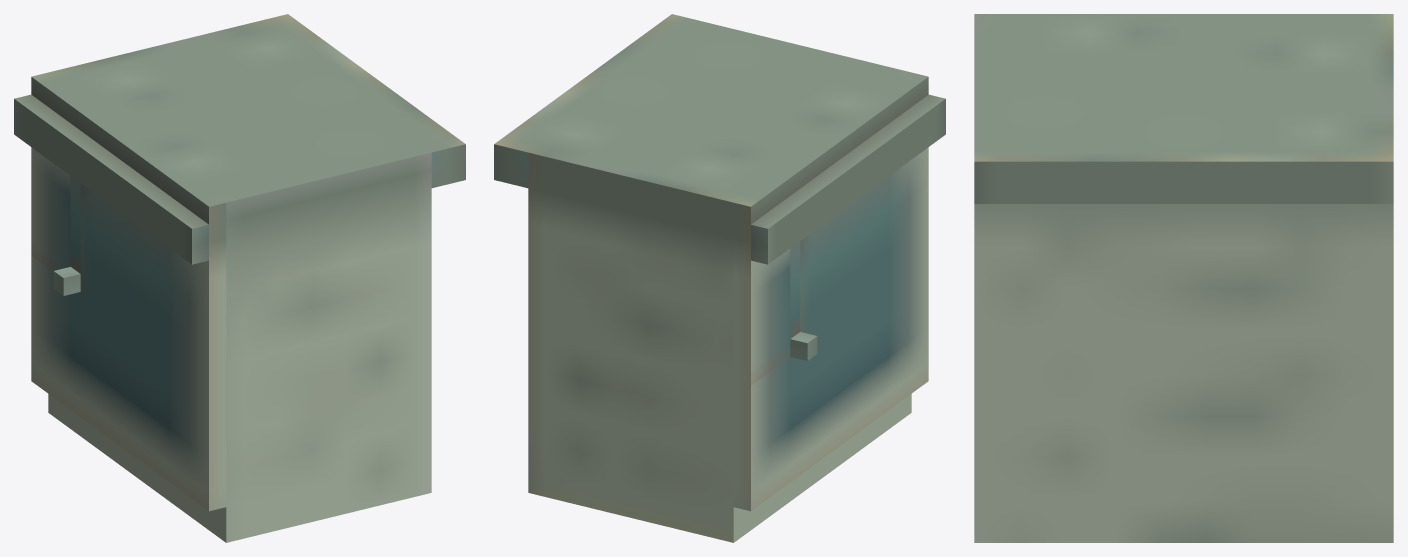
The model's file is CountertopGreen_01.fbx.
The picture shows the model from 3 angles, left to right: view 1: azimuth 30°, elevation 25°; view 2: azimuth 150°, elevation 25°; view 3: azimuth 270°, elevation 25°; orthographic projection. The views are drawn at different scales.
Parts seen in each view (by area): view 1: CountertopGreen_01; view 2: CountertopGreen_01; view 3: CountertopGreen_01.
Boxes of the visible parts, left/top/right/bottom form: CountertopGreen_01: left=14, top=14, right=465, bottom=542; CountertopGreen_01: left=494, top=14, right=945, bottom=542; CountertopGreen_01: left=974, top=14, right=1393, bottom=542.
Size of the model in its own units: 80 by 90 by 95.
Materials: 1 (1 with a texture image).
